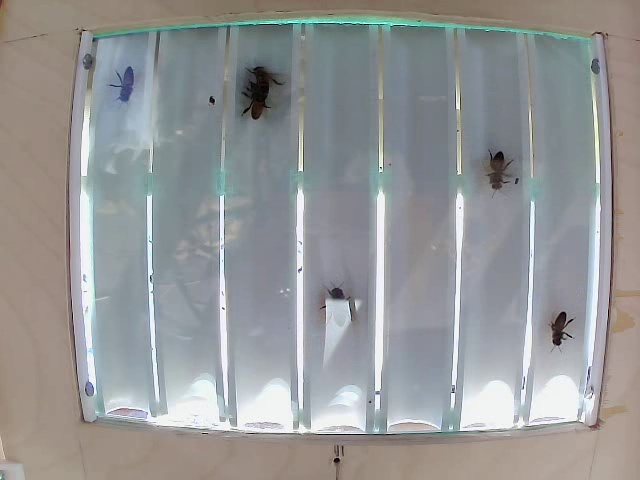bee: (323, 278, 378, 335), (480, 143, 529, 203), (551, 310, 587, 353), (104, 66, 148, 101), (248, 62, 283, 99), (236, 89, 270, 118)
